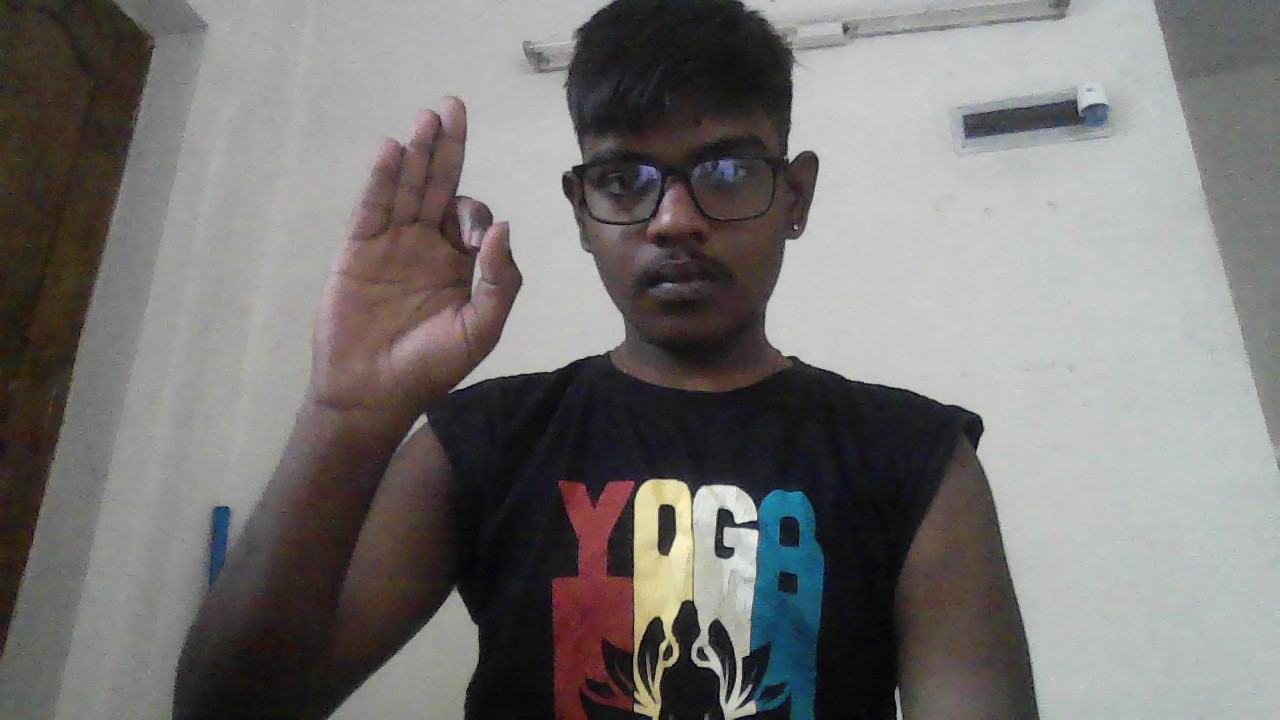F: (314, 94, 522, 406)
